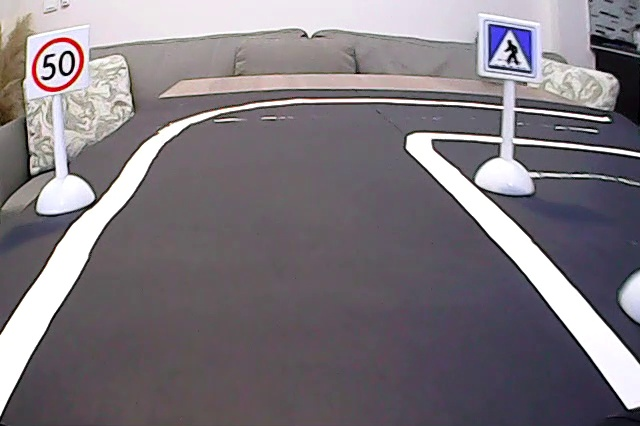pedestrian crossing: (484, 17, 537, 78)
speed limit 50: (31, 35, 86, 95)
